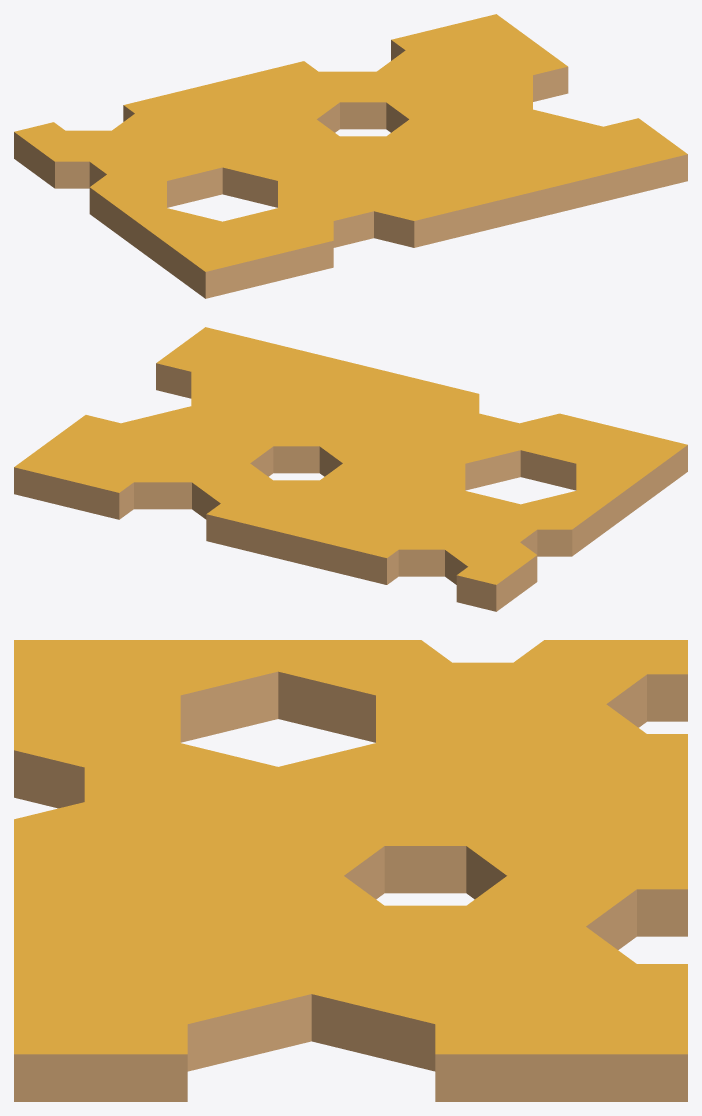
The model's file is cheeseCut.obj.
3 views of the same model, one above another, from view 1: azimuth 30°, elevation 25°; view 2: azimuth 150°, elevation 25°; view 3: azimuth 270°, elevation 25° (orthographic). The views are drawn at different scales.
Visible parts, largest first — view 1: cheeseCut; view 2: cheeseCut; view 3: cheeseCut.
Part boxes in pixels (left/top/right/bottom): cheeseCut: left=14, top=14, right=687, bottom=298; cheeseCut: left=14, top=327, right=687, bottom=611; cheeseCut: left=14, top=640, right=687, bottom=1101.
Bounding box in the file's own units: 0.384 × 0.0205 × 0.264.
